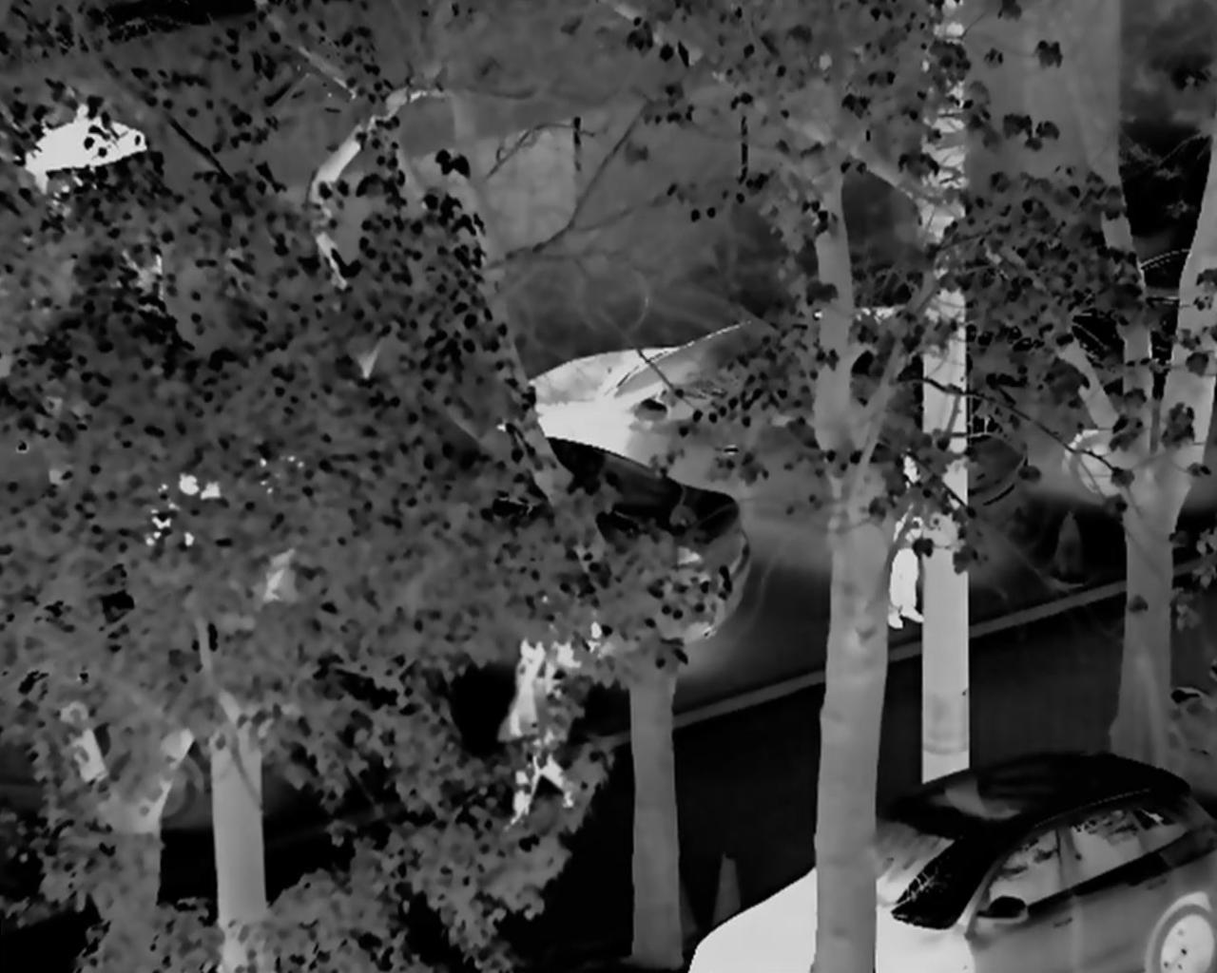person: (496, 632, 589, 840), (868, 443, 932, 644)
